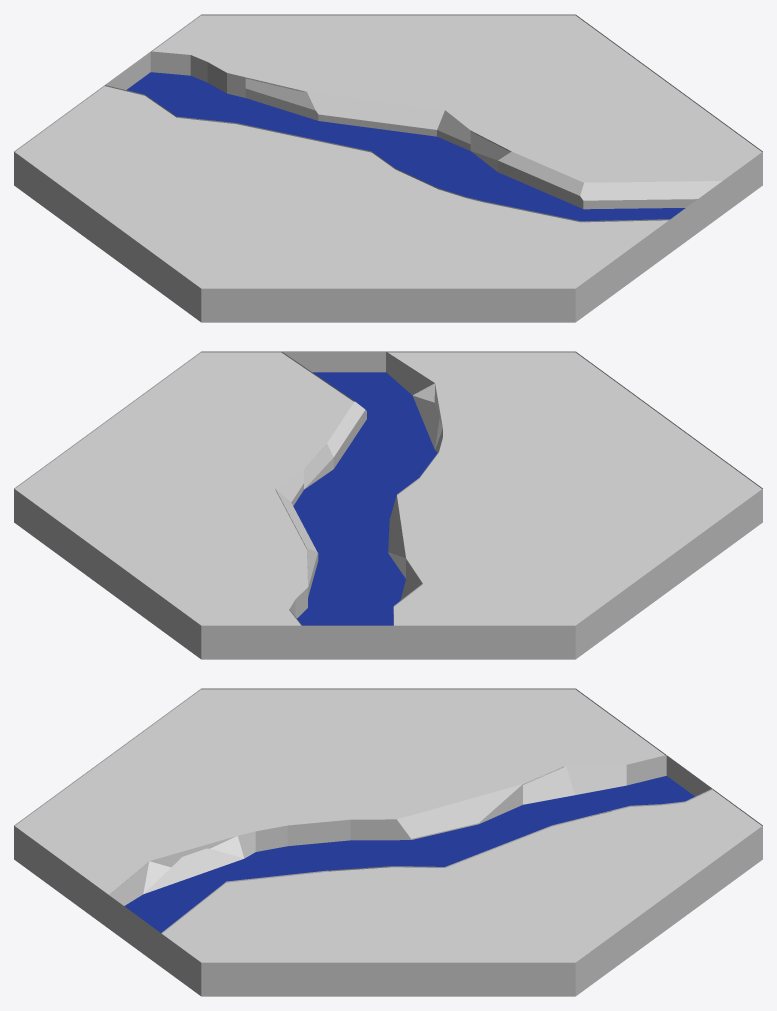
File: river.fbx
3 renders of one model, top to bottom at view 1: azimuth 30°, elevation 25°; view 2: azimuth 150°, elevation 25°; view 3: azimuth 270°, elevation 25°, orthographic.
Visible parts, largest first — view 1: Circle; view 2: Circle; view 3: Circle.
Boxes of the visible parts, left/top/right/bottom form: Circle: left=14, top=14, right=762, bottom=322; Circle: left=14, top=351, right=762, bottom=659; Circle: left=14, top=688, right=762, bottom=996.
Size of the model in its own units: 173 by 10 by 200.
